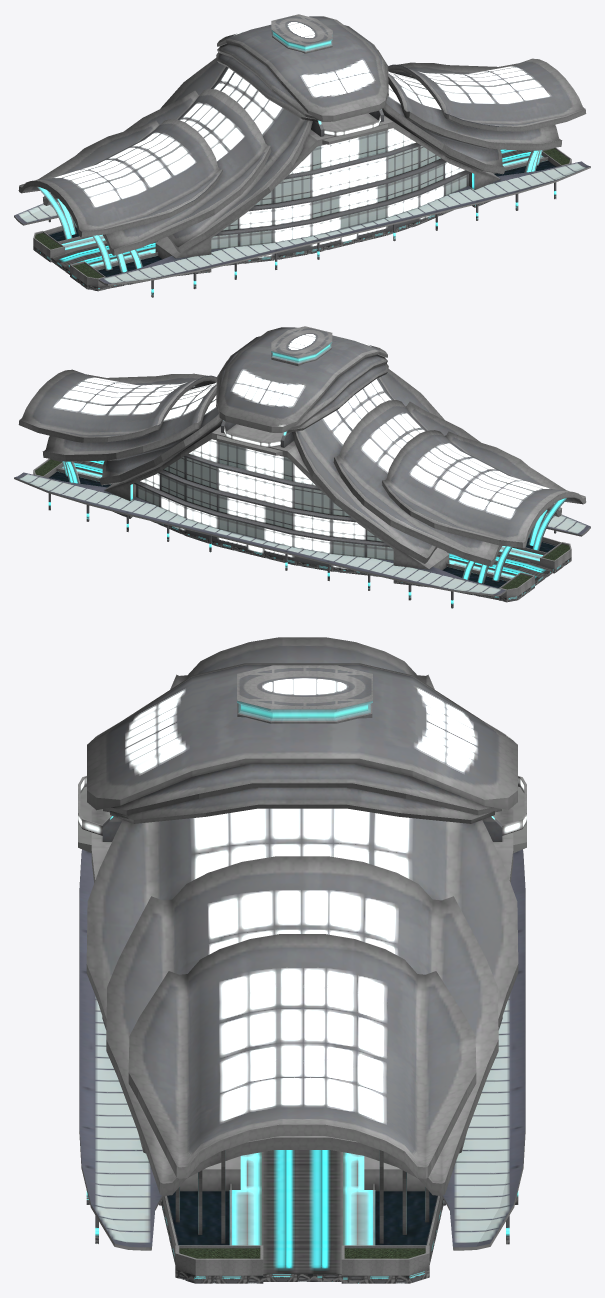
File: station.fbx
3 views of the same model, one above another, from view 1: azimuth 30°, elevation 25°; view 2: azimuth 150°, elevation 25°; view 3: azimuth 270°, elevation 25° (orthographic). The views are drawn at different scales.
Parts seen in each view (by area): view 1: gareobj; view 2: gareobj; view 3: gareobj.
Part boxes in pixels (x1,y1,x2,y2): gareobj: [14, 14, 590, 297]; gareobj: [14, 326, 590, 608]; gareobj: [78, 637, 526, 1283].
Bounding box in the file's own units: 12896 × 4396 × 4969.
